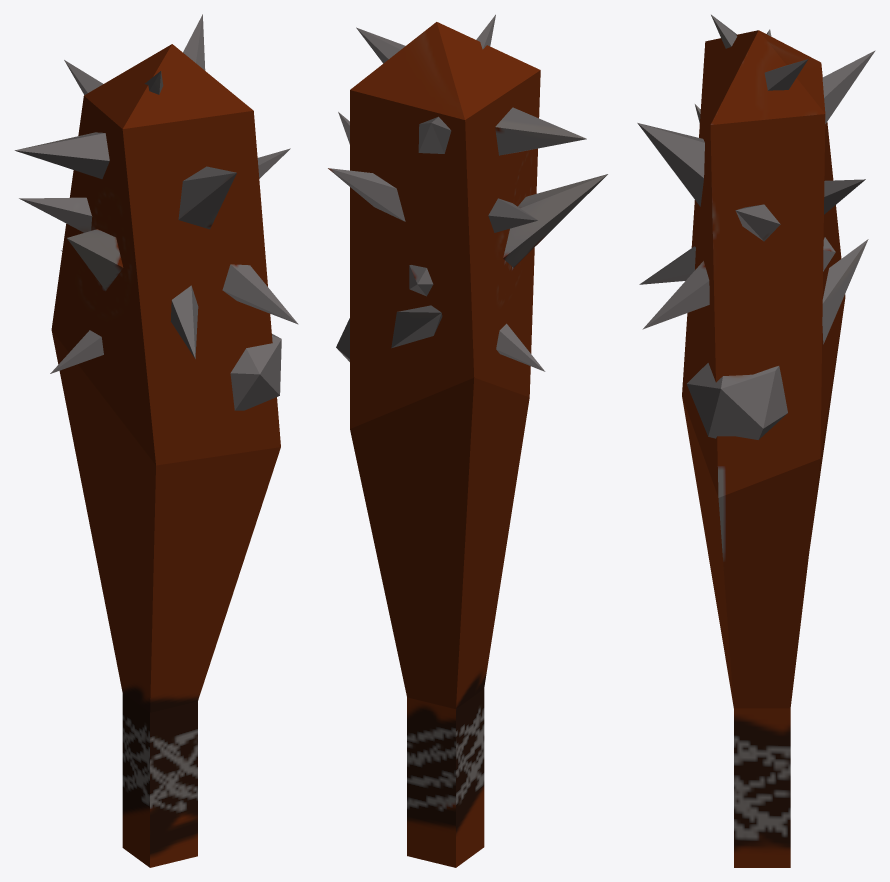
File: orc_club.gltf
3 views of the same model, side by side, from view 1: azimuth 30°, elevation 25°; view 2: azimuth 150°, elevation 25°; view 3: azimuth 270°, elevation 25° (orthographic). The views are drawn at different scales.
Parts seen in each view (by area): view 1: Cube; view 2: Cube; view 3: Cube.
Boxes of the visible parts, x1,y1,x2,y2 form: Cube: (14, 14, 298, 867); Cube: (328, 14, 607, 867); Cube: (637, 14, 875, 867).
Size of the model in its own units: 3.31 by 9.8 by 2.55.
1 material, 1 textured.
